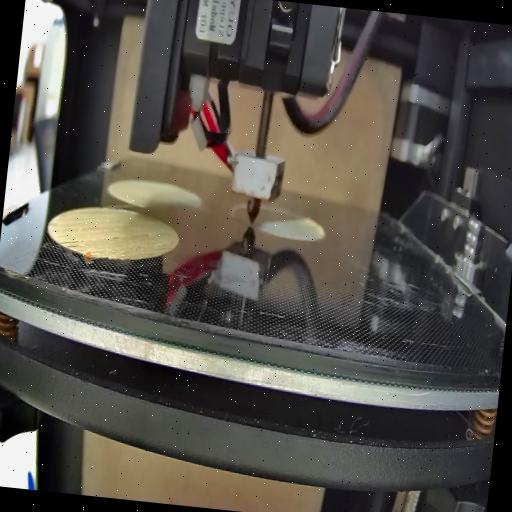under_extrusion: (58, 238, 92, 256), (92, 246, 123, 264), (136, 244, 170, 258), (47, 220, 76, 236), (129, 229, 155, 243), (101, 234, 126, 245)
